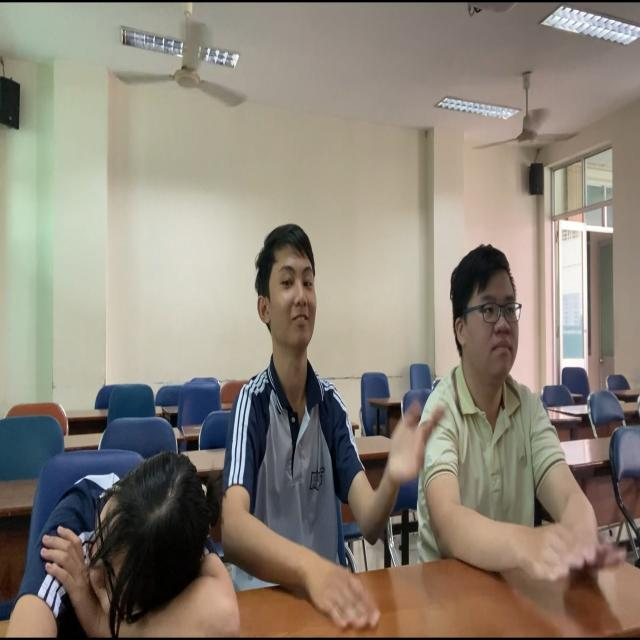sleep: (1, 445, 246, 640)
